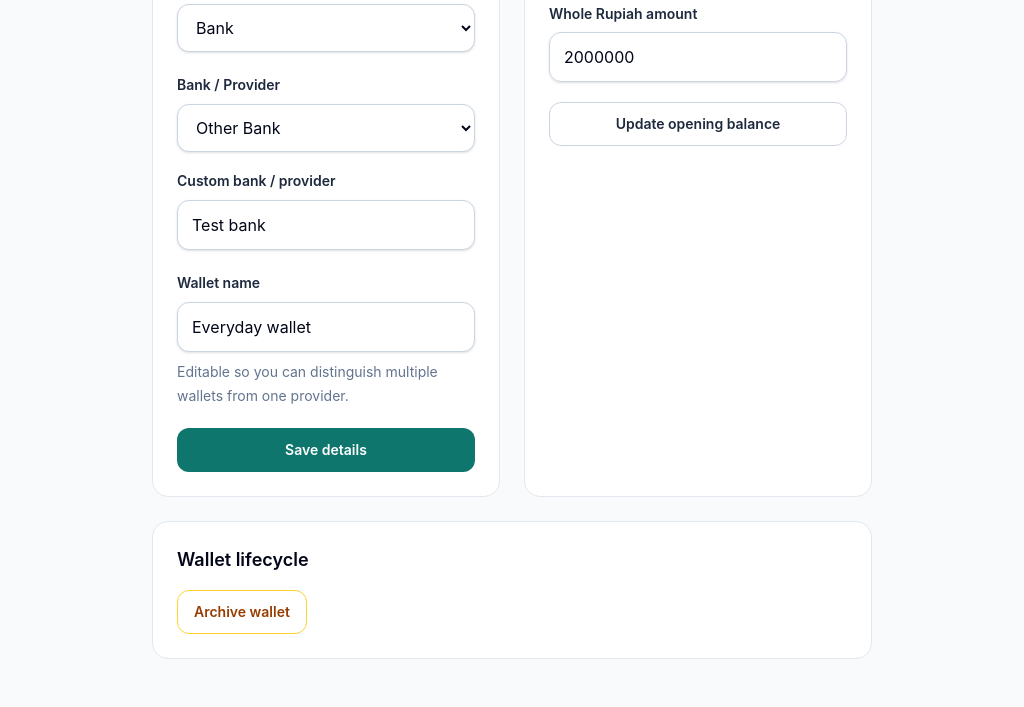
Test: wallet management flow › requires confirmation and archives without deleting the wallet
The width and height of the screenshot is (1024, 707).
(page scrolled)
Step 1. Click the button "Archive wallet" → (242, 612), box [177,590,307,634]
(page scrolled)
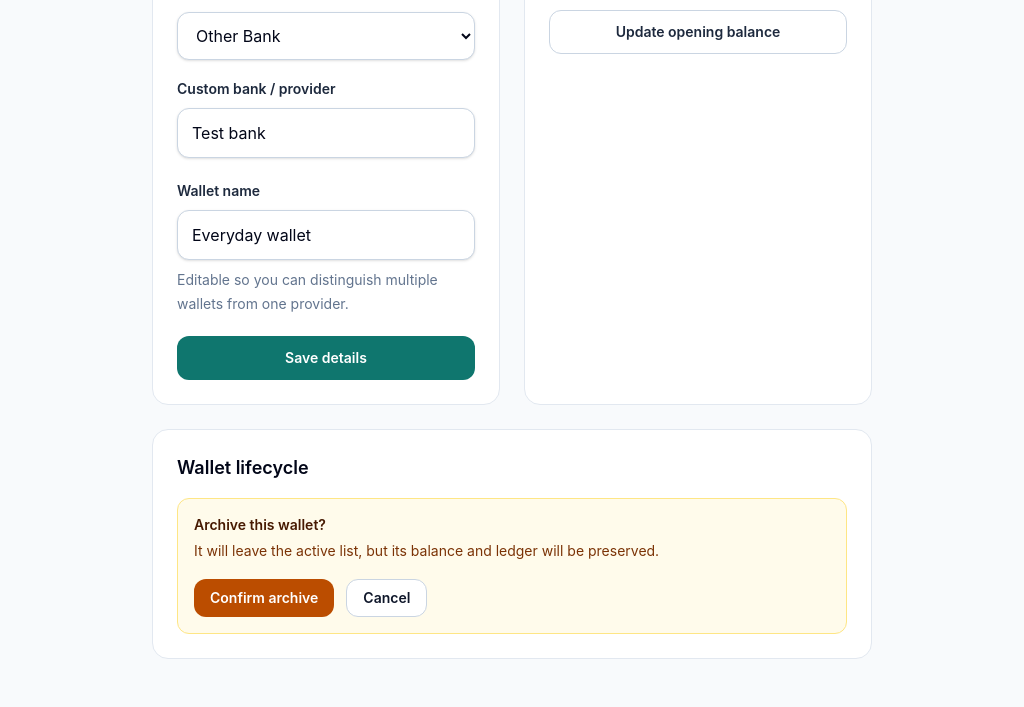
Expected: the text "Archive this wallet?" is shown, [194,516,326,533]
Step 2. Click the button "Confirm archive" → (264, 598), box [194,579,334,617]
(page scrolled)
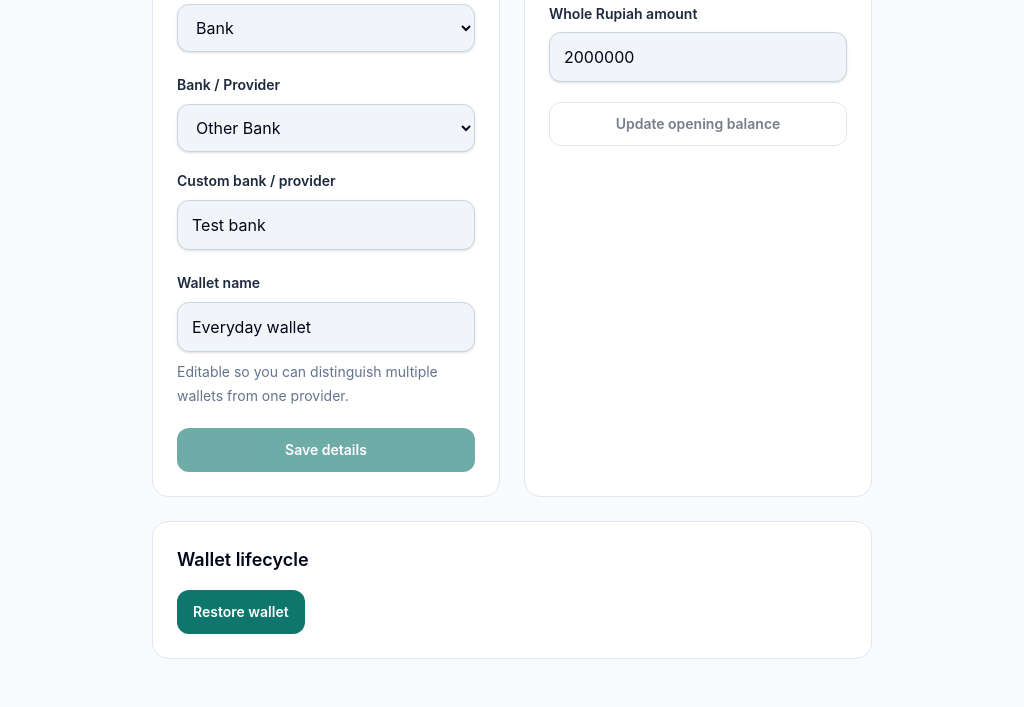
Expected: the button "Restore wallet" is shown, [177,590,305,634]
